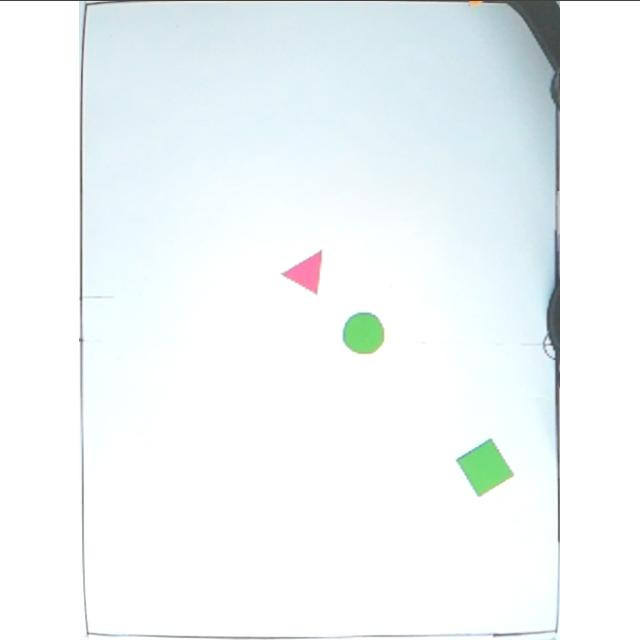greenCircle: (342, 309, 391, 356)
greenSquare: (454, 436, 516, 498)
pinkTriangle: (279, 248, 331, 296)
